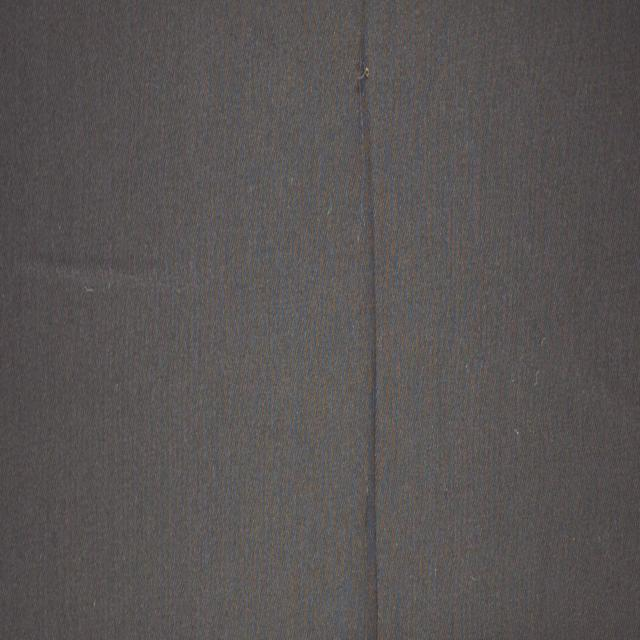broken_yarn: (359, 0, 381, 639)
